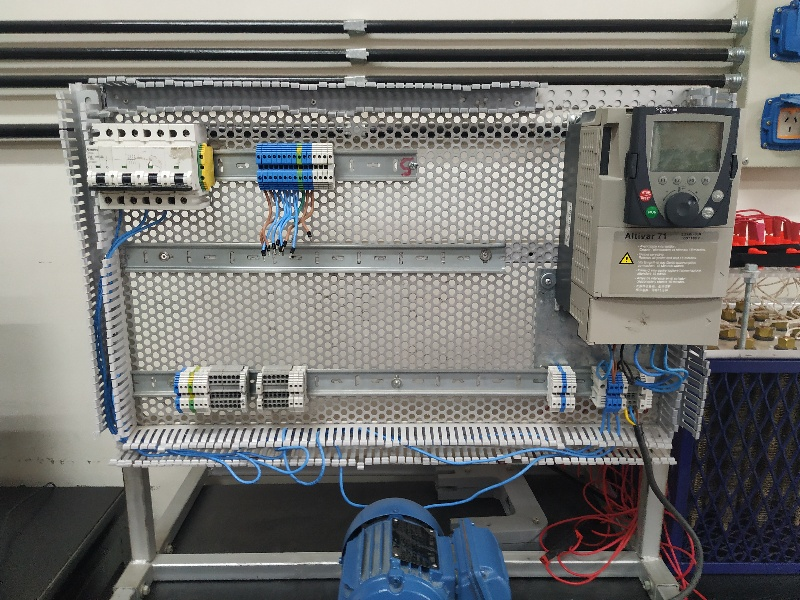Tablero 0: (77, 87, 744, 461)
